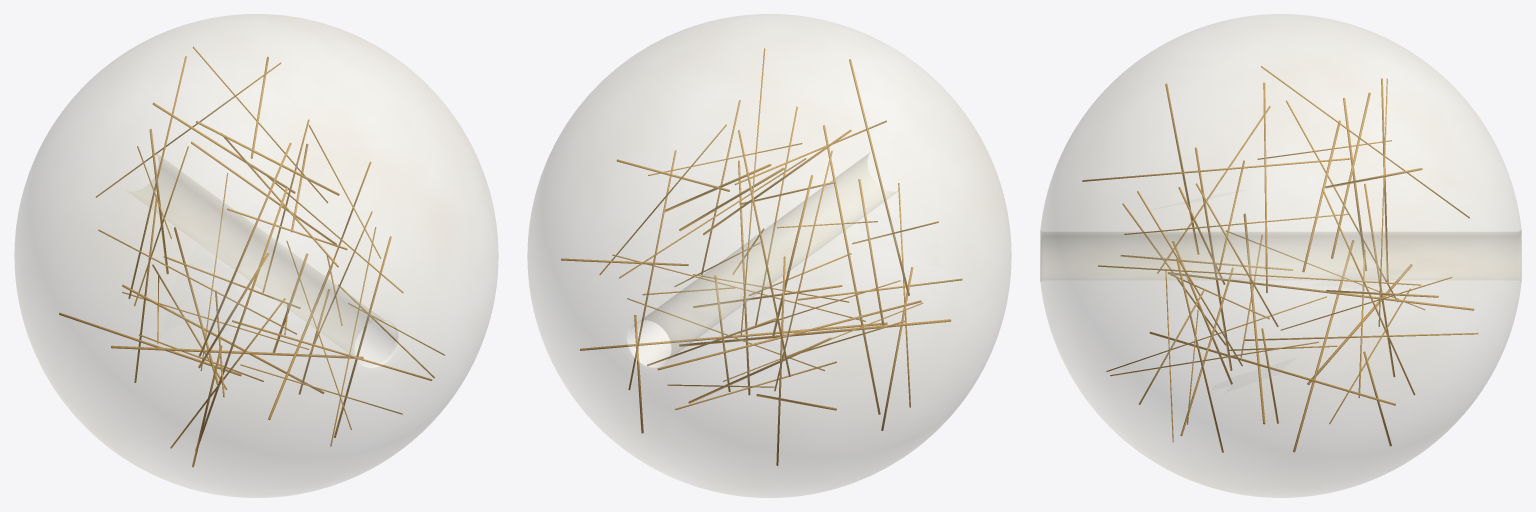
The model's file is golden-rutilated-quartz-10mm.glb.
3 views of the same model, side by side, from view 1: azimuth 30°, elevation 25°; view 2: azimuth 150°, elevation 25°; view 3: azimuth 270°, elevation 25° (orthographic).
Visible parts, largest first — view 1: golden-rutilated-quartz.001, golden-rutilated-quartz_WEB_needles_48; view 2: golden-rutilated-quartz.001, golden-rutilated-quartz_WEB_needles_48; view 3: golden-rutilated-quartz.001, golden-rutilated-quartz_WEB_needles_48.
Part boxes in pixels (x1,y1,x2,y2): golden-rutilated-quartz.001: (14,14,498,497); golden-rutilated-quartz_WEB_needles_48: (59,46,444,467); golden-rutilated-quartz.001: (527,14,1011,497); golden-rutilated-quartz_WEB_needles_48: (561,48,962,465); golden-rutilated-quartz.001: (1040,14,1521,497); golden-rutilated-quartz_WEB_needles_48: (1082,66,1478,452).
Bounding box in the file's own units: 0.01 × 0.01 × 0.00994.
Materials: 3 (1 with a texture image).
